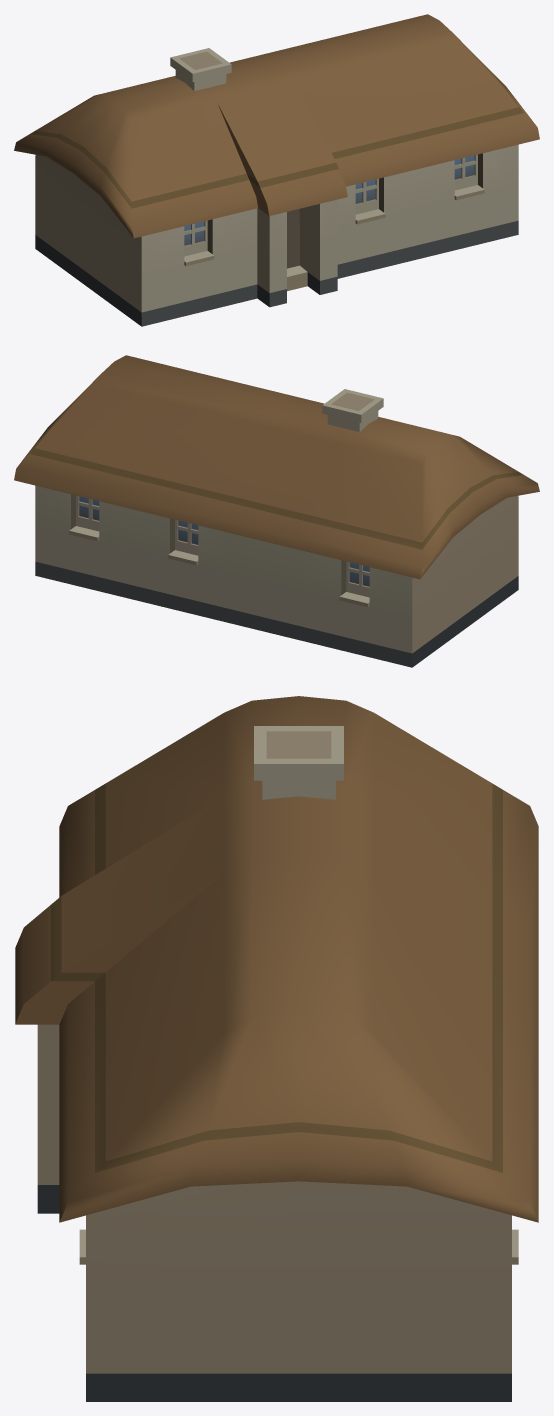
The model's file is buildings-farm-thatchedcottage_v1.glb.
The picture shows the model from 3 angles, top to bottom: view 1: azimuth 30°, elevation 25°; view 2: azimuth 150°, elevation 25°; view 3: azimuth 270°, elevation 25°; orthographic projection. The views are drawn at different scales.
Visible parts, largest first — view 1: ThatchedCottage_v1_base, ThatchedCottage_v1_windowRefl; view 2: ThatchedCottage_v1_base, ThatchedCottage_v1_windowRefl; view 3: ThatchedCottage_v1_base.
Boxes of the visible parts, bbox=[...] form: ThatchedCottage_v1_base: bbox=[14, 14, 539, 326]; ThatchedCottage_v1_windowRefl: bbox=[184, 155, 474, 245]; ThatchedCottage_v1_base: bbox=[14, 355, 539, 667]; ThatchedCottage_v1_windowRefl: bbox=[79, 496, 369, 586]; ThatchedCottage_v1_base: bbox=[15, 696, 538, 1401].
Bounding box in the file's own units: 14.89 × 6.99 × 8.31.
